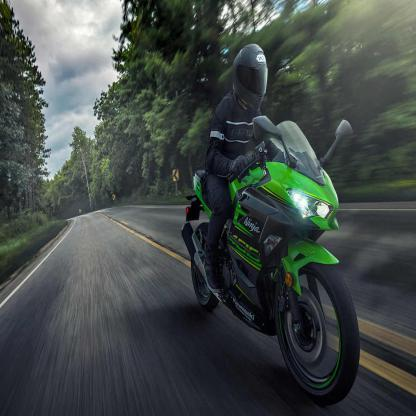Motorcycle: (189, 132, 362, 408)
